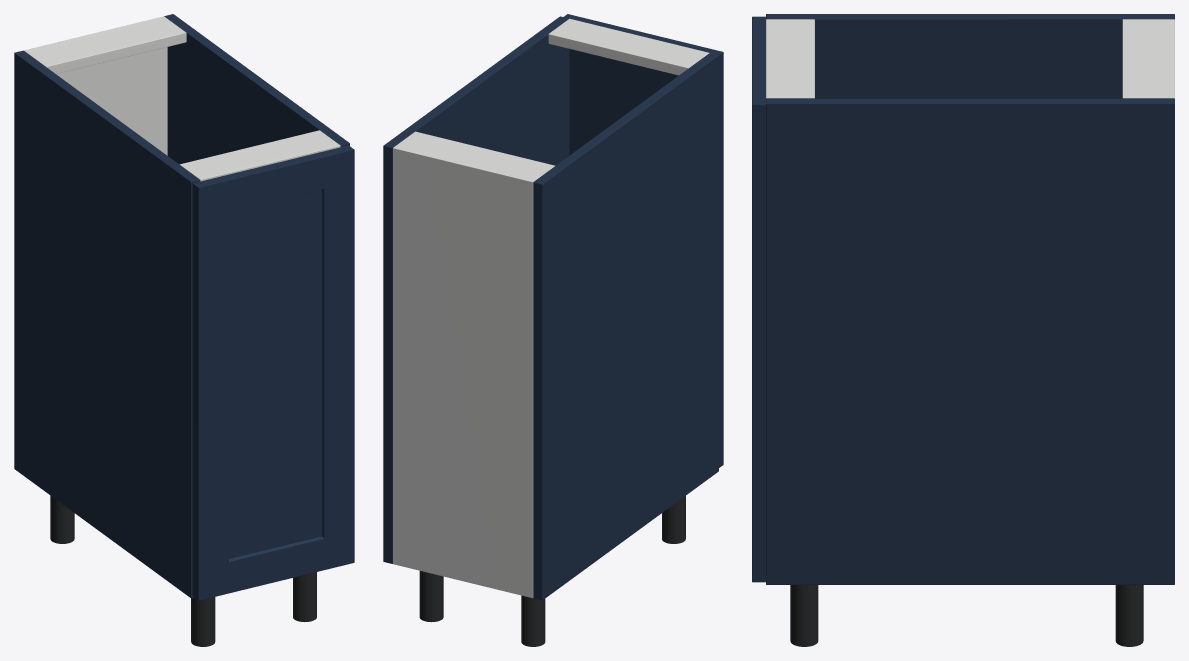
Rendered from oppein-pb-bss-bsr12.glb.
The picture shows the model from 3 angles, left to right: view 1: azimuth 30°, elevation 25°; view 2: azimuth 150°, elevation 25°; view 3: azimuth 270°, elevation 25°; orthographic projection. The views are drawn at different scales.
Visible parts, largest first — view 1: Cabinet side, Door, Cabinet side.001, Cabinet back, Top support rail, Top support rail.001, Adjustable foot.001, Adjustable foot.003, Adjustable foot; view 2: Cabinet side, Cabinet back, Cabinet side.001, Door, Top support rail.001, Top support rail, Adjustable foot, Adjustable foot.002, Adjustable foot.001, Cabinet bottom; view 3: Cabinet side.001, Cabinet side, Door, Top support rail.001, Top support rail, Adjustable foot.002, Adjustable foot.003, Cabinet back.
Boxes of the visible parts, x1,y1,x2,y2 form: Cabinet side: (14,50,200,598); Door: (192,145,354,600); Cabinet side.001: (164,14,349,164); Cabinet back: (24,16,167,155); Top support rail: (25,18,186,73); Top support rail.001: (179,130,340,181); Adjustable foot.001: (191,597,215,646); Adjustable foot.003: (293,572,316,621); Adjustable foot: (50,495,74,543); Cabinet side: (533,53,718,600); Cabinet back: (393,145,535,598); Cabinet side.001: (383,16,569,563); Door: (563,14,723,467); Top support rail.001: (548,18,709,75); Top support rail: (396,131,554,179); Adjustable foot: (521,595,545,646); Adjustable foot.002: (419,571,443,622); Adjustable foot.001: (662,496,685,543); Cabinet bottom: (393,562,533,597); Cabinet side.001: (766,98,1174,584); Cabinet side: (766,14,1174,98); Door: (752,16,765,582); Top support rail.001: (766,19,814,98); Top support rail: (1122,19,1166,98); Adjustable foot.002: (1115,585,1143,646); Adjustable foot.003: (790,585,818,646); Cabinet back: (1167,19,1174,98).
Bounding box in the file's own units: 0.3048 × 0.8763 × 0.6064.
